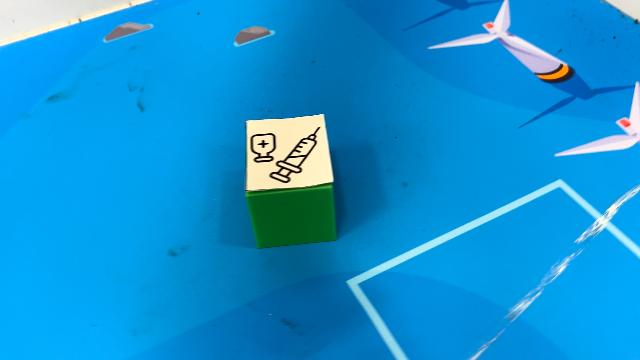syringe: (245, 114, 337, 248)
